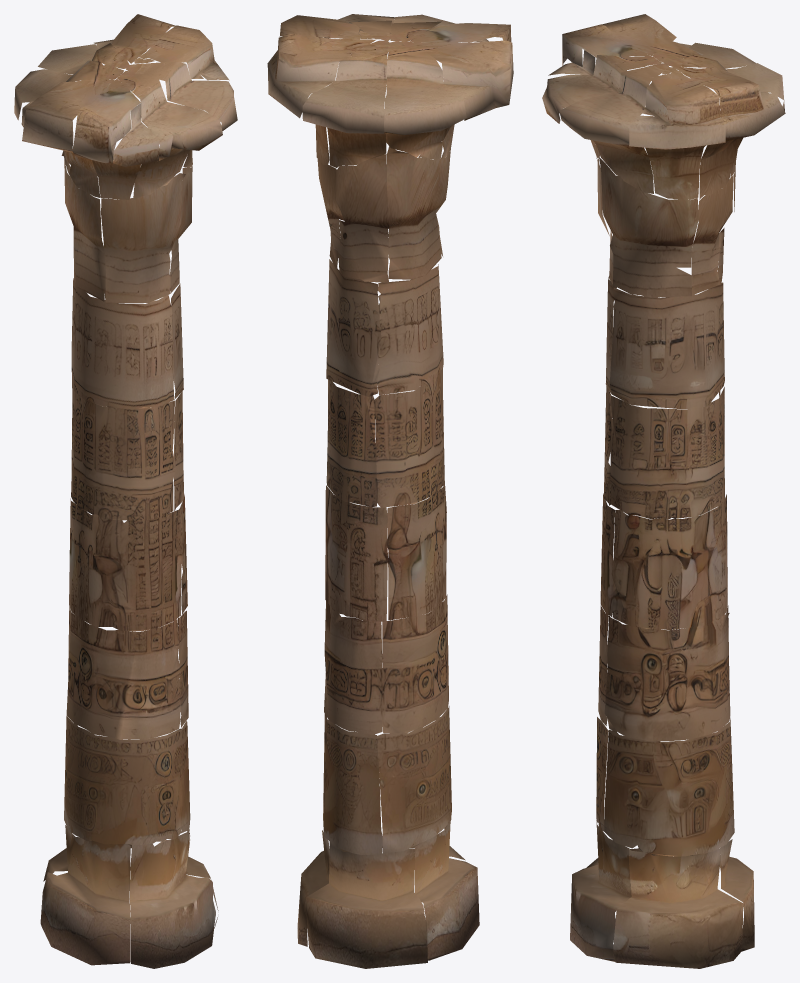
File: Column_LOD1.glb
3 views of the same model, side by side, from view 1: azimuth 30°, elevation 25°; view 2: azimuth 150°, elevation 25°; view 3: azimuth 270°, elevation 25° (orthographic). The views are drawn at different scales.
Parts seen in each view (by area): view 1: tripo_node_cd491ec5-fb23-46ed-ba43-5ae893b73d8c.001; view 2: tripo_node_cd491ec5-fb23-46ed-ba43-5ae893b73d8c.001; view 3: tripo_node_cd491ec5-fb23-46ed-ba43-5ae893b73d8c.001.
Part boxes in pixels (x1,y1,x2,y2): tripo_node_cd491ec5-fb23-46ed-ba43-5ae893b73d8c.001: (14,14,237,968); tripo_node_cd491ec5-fb23-46ed-ba43-5ae893b73d8c.001: (267,14,513,968); tripo_node_cd491ec5-fb23-46ed-ba43-5ae893b73d8c.001: (542,14,785,968).
Size of the model in its own units: 3 by 12 by 3.01.
1 material, 1 textured.
